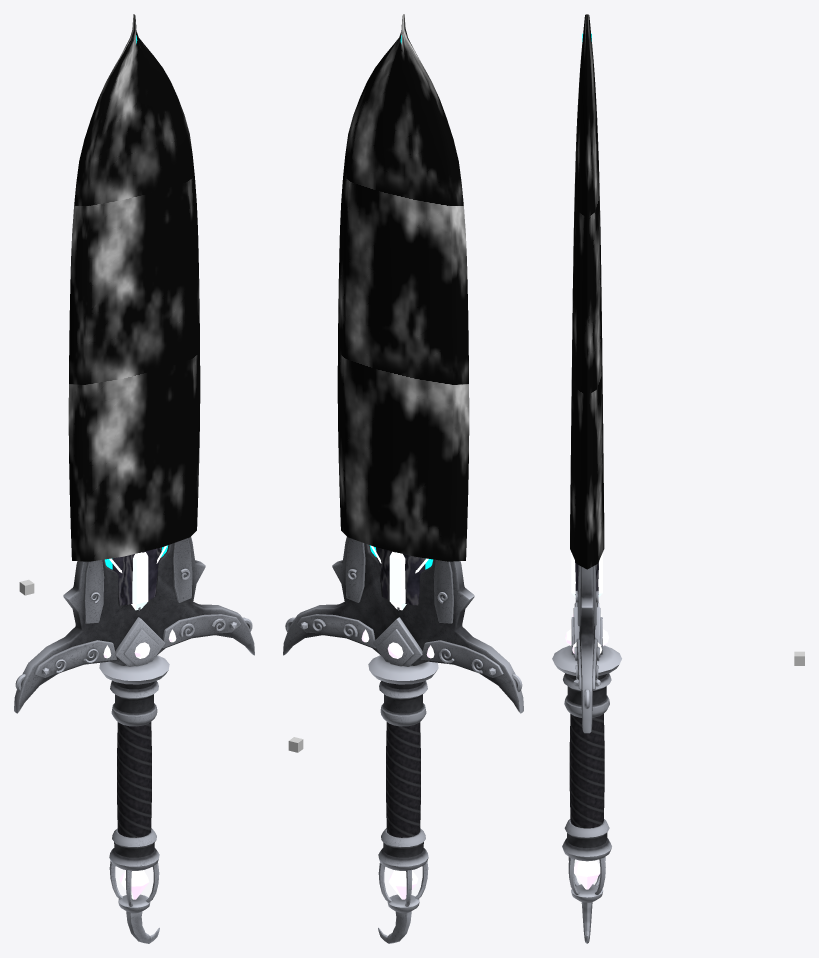
File: MoFengSword.fbx
The picture shows the model from 3 angles, left to right: view 1: azimuth 30°, elevation 25°; view 2: azimuth 150°, elevation 25°; view 3: azimuth 270°, elevation 25°; orthographic projection.
Parts seen in each view (by area): view 1: BladeAura, Hilt, Handle, BladeCore, EnergyVeins, AccentGems; view 2: BladeAura, Hilt, Handle, BladeCore, EnergyVeins, AccentGems; view 3: BladeAura, Hilt, Handle, AccentGems.
Part boxes in pixels (<box>): BladeAura: <box>68,14,200,561</box>; Hilt: <box>14,537,254,943</box>; Handle: <box>117,722,151,837</box>; BladeCore: <box>112,547,161,605</box>; EnergyVeins: <box>109,545,166,610</box>; AccentGems: <box>103,629,176,899</box>; BladeAura: <box>337,14,469,561</box>; Hilt: <box>283,537,523,943</box>; Handle: <box>386,722,420,837</box>; BladeCore: <box>376,547,425,605</box>; EnergyVeins: <box>371,545,428,610</box>; AccentGems: <box>361,629,434,899</box>; BladeAura: <box>570,14,604,569</box>; Hilt: <box>552,565,621,943</box>; Handle: <box>569,714,604,828</box>; AccentGems: <box>565,613,609,889</box>.
Bounding box in the file's own units: 1.28 × 4.79 × 1.19.
8 materials, 4 textured.
